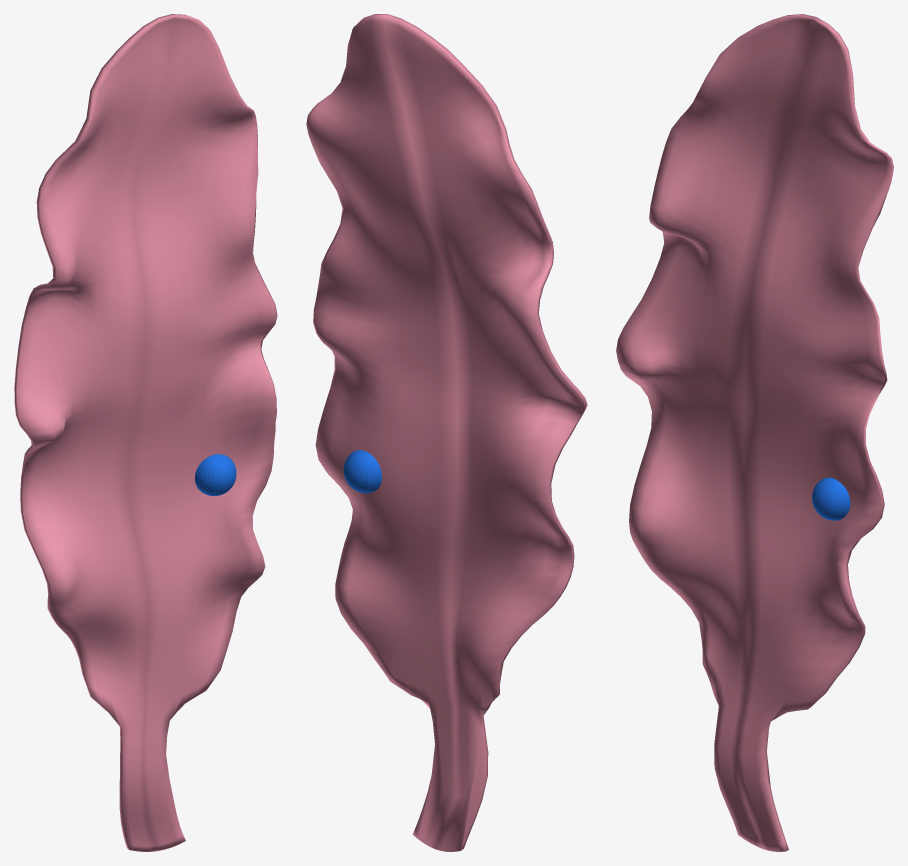
The model's file is treetest.fbx.
The picture shows the model from 3 angles, left to right: view 1: azimuth 30°, elevation 25°; view 2: azimuth 150°, elevation 25°; view 3: azimuth 330°, elevation 25°; orthographic projection. The views are drawn at different scales.
Parts seen in each view (by area): view 1: seaweed1, Sphere; view 2: seaweed1, Sphere; view 3: seaweed1, Sphere.
Part boxes in pixels (x1,y1,x2,y2): seaweed1: (14, 14, 277, 851); Sphere: (195, 454, 236, 495); seaweed1: (306, 14, 587, 851); Sphere: (343, 450, 381, 493); seaweed1: (616, 14, 893, 851); Sphere: (812, 477, 850, 520).
Bounding box in the file's own units: 83.87 × 251 × 20.34.
